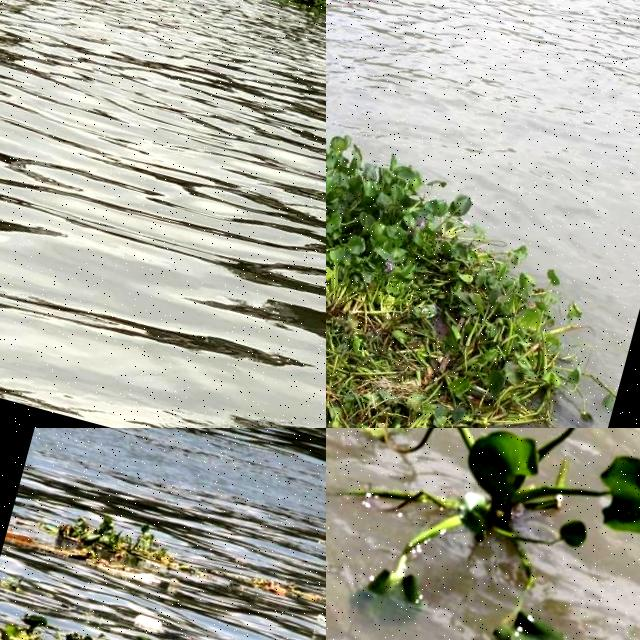water-hyacinth: (327, 1, 640, 429), (327, 429, 640, 640), (1, 592, 327, 640), (51, 495, 183, 589)
